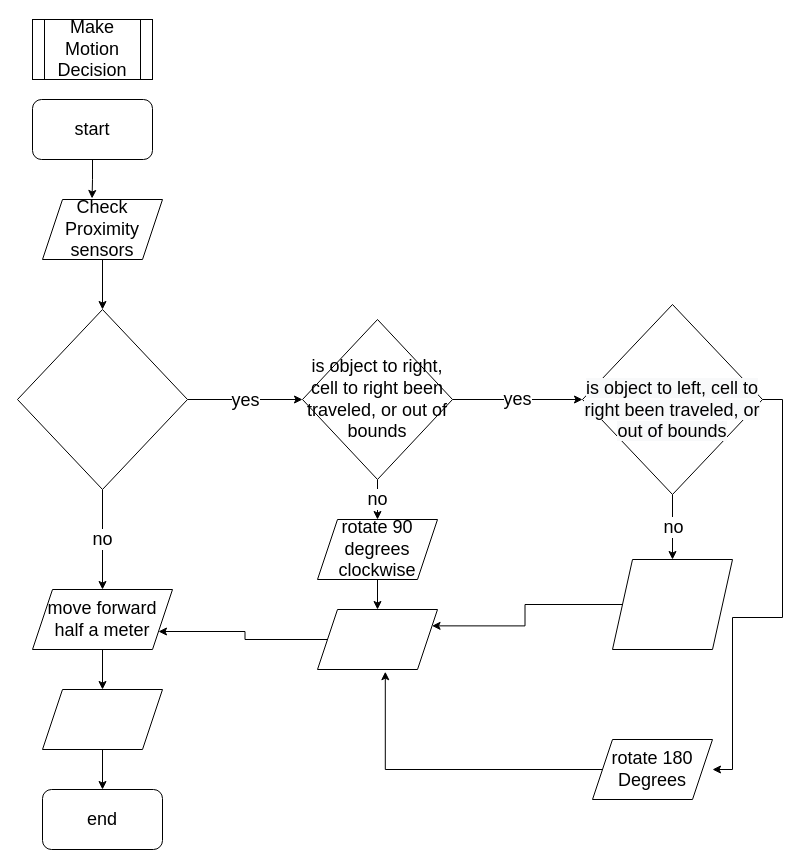
Some shapes in this 808 by 867 pixel diagram are drawn without their labels. The shapes that lost their labels are listed below. From the top down, each one's centre as x and y in pixels, then its label:
At (x=102, y=399): "is object ahead or has cell ahead been traveled or out of bounds?".
At (x=672, y=604): "rotate 90 degrees counter-clockwise".
At (x=377, y=639): "update orientation".
At (x=102, y=719): "update traveled array".
